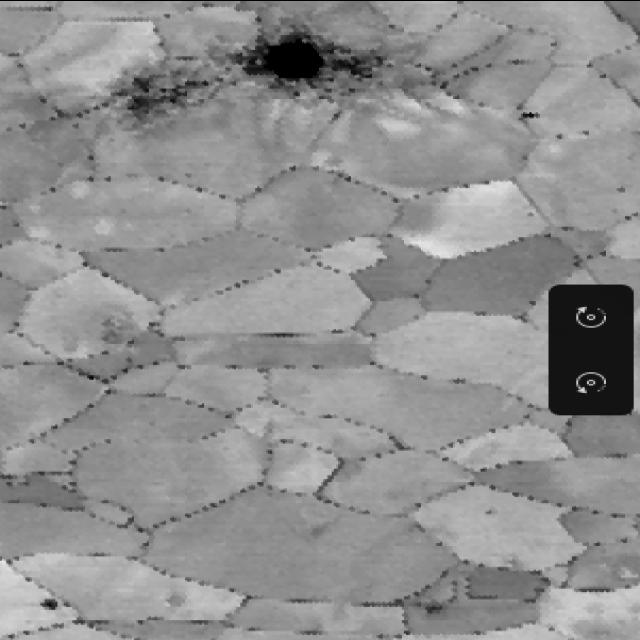good_void: (232, 23, 389, 99), (117, 75, 218, 118), (409, 599, 449, 621), (163, 590, 190, 613), (35, 594, 64, 615), (518, 108, 547, 122), (478, 505, 500, 520), (549, 129, 570, 144), (612, 181, 631, 196), (523, 210, 538, 219)
